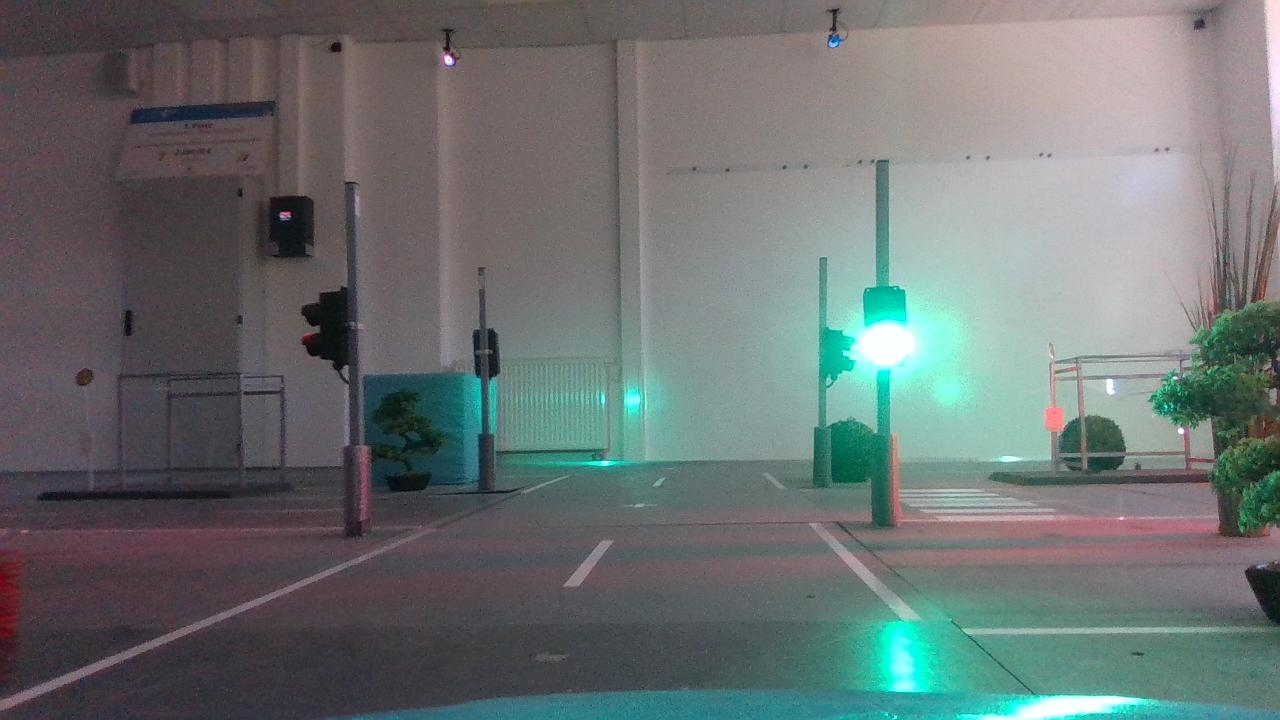traffic_light_green: (859, 280, 914, 374)
